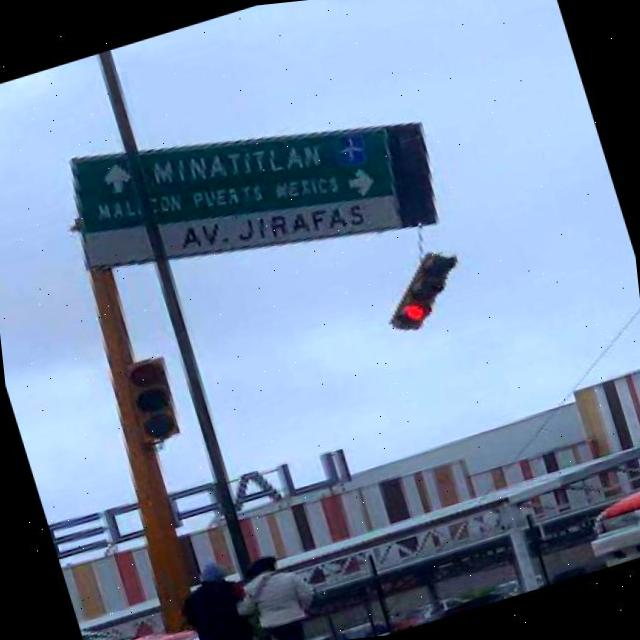Broken Pole: (66, 119, 460, 633)
